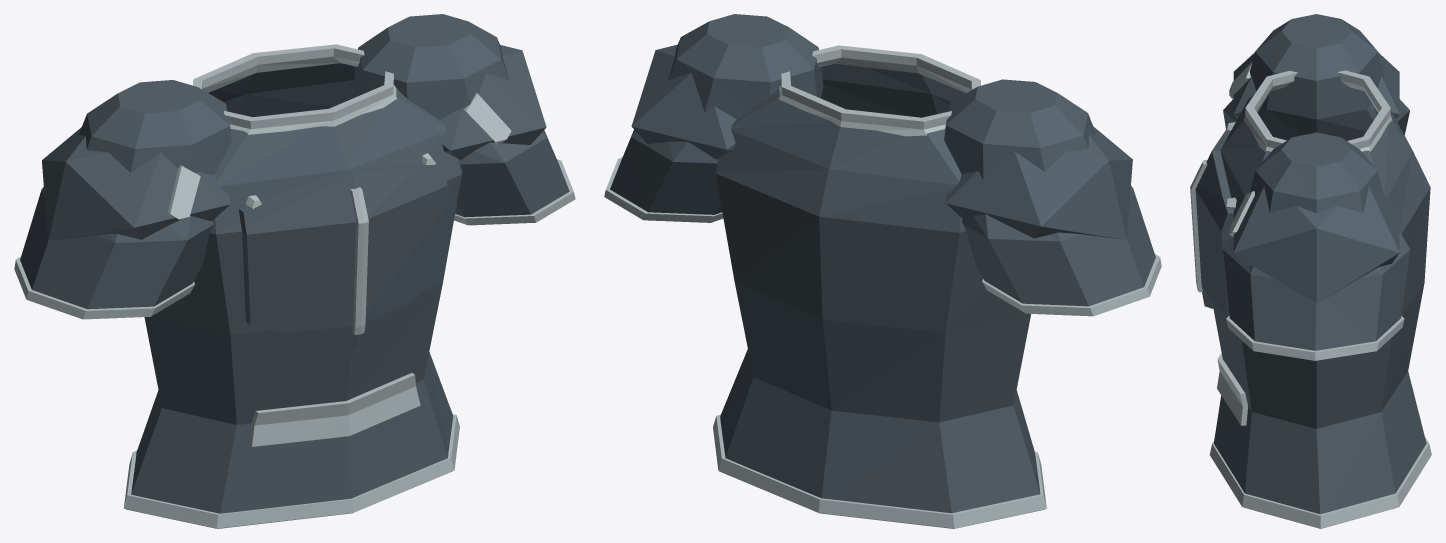
Rendered from plate_chest-female.glb.
3 views of the same model, side by side, from view 1: azimuth 30°, elevation 25°; view 2: azimuth 150°, elevation 25°; view 3: azimuth 270°, elevation 25° (orthographic). The views are drawn at different scales.
Parts seen in each view (by area): view 1: plate tunic torso, Faceted breastplate reinforcement, plate upper sleeve -1, plate upper sleeve 1, Plate pauldron -1, Fitted tunic neckline, Articulated abdominal overlap, Bound tunic hem, Plate pauldron 1, Sleeve cuff binding -1, Breastplate folded center ridge, Sleeve cuff binding 1 (+2 smaller); view 2: plate tunic torso, plate upper sleeve -1, plate upper sleeve 1, Plate pauldron -1, Fitted tunic neckline, Plate pauldron 1, Bound tunic hem, Sleeve cuff binding -1, Sleeve cuff binding 1; view 3: plate tunic torso, plate upper sleeve 1, plate upper sleeve -1, Plate pauldron 1, Faceted breastplate reinforcement, Bound tunic hem, Fitted tunic neckline, Sleeve cuff binding 1, Plate pauldron -1, Articulated abdominal overlap, Breastplate folded center ridge, Pauldron bound front edge 1 (+1 smaller).
Part boxes in pixels (x1=…): plate tunic torso: x1=126, y1=63, x2=462, y2=528; Faceted breastplate reinforcement: x1=239, y1=160, x2=447, y2=349; plate upper sleeve -1: x1=20, y1=80, x2=231, y2=309; plate upper sleeve 1: x1=353, y1=14, x2=569, y2=217; Plate pauldron -1: x1=42, y1=127, x2=230, y2=240; Fitted tunic neckline: x1=193, y1=44, x2=397, y2=134; Articulated abdominal overlap: x1=249, y1=373, x2=420, y2=446; Bound tunic hem: x1=123, y1=414, x2=459, y2=528; Plate pauldron 1: x1=440, y1=45, x2=546, y2=160; Sleeve cuff binding -1: x1=14, y1=256, x2=194, y2=319; Breastplate folded center ridge: x1=350, y1=187, x2=368, y2=334; Sleeve cuff binding 1: x1=454, y1=159, x2=575, y2=225; plate tunic torso: x1=715, y1=63, x2=1044, y2=528; plate upper sleeve -1: x1=944, y1=79, x2=1155, y2=306; plate upper sleeve 1: x1=610, y1=14, x2=823, y2=214; Plate pauldron -1: x1=945, y1=126, x2=1132, y2=239; Fitted tunic neckline: x1=778, y1=45, x2=980, y2=136; Plate pauldron 1: x1=631, y1=44, x2=736, y2=159; Bound tunic hem: x1=713, y1=414, x2=1046, y2=528; Sleeve cuff binding -1: x1=982, y1=254, x2=1161, y2=316; Sleeve cuff binding 1: x1=604, y1=157, x2=723, y2=222; plate tunic torso: x1=1213, y1=95, x2=1430, y2=528; plate upper sleeve 1: x1=1223, y1=132, x2=1410, y2=350; plate upper sleeve -1: x1=1223, y1=14, x2=1409, y2=140; Plate pauldron 1: x1=1233, y1=186, x2=1399, y2=302; Faceted breastplate reinforcement: x1=1195, y1=129, x2=1234, y2=313; Bound tunic hem: x1=1209, y1=437, x2=1431, y2=528; Fitted tunic neckline: x1=1243, y1=70, x2=1391, y2=151; Sleeve cuff binding 1: x1=1226, y1=315, x2=1404, y2=360; Plate pauldron -1: x1=1233, y1=52, x2=1399, y2=118; Articulated abdominal overlap: x1=1217, y1=353, x2=1247, y2=425; Breastplate folded center ridge: x1=1190, y1=160, x2=1207, y2=292; Pauldron bound front edge 1: x1=1229, y1=191, x2=1254, y2=236.
Size of the model in its own units: 3.32 by 2.4 by 1.44.
